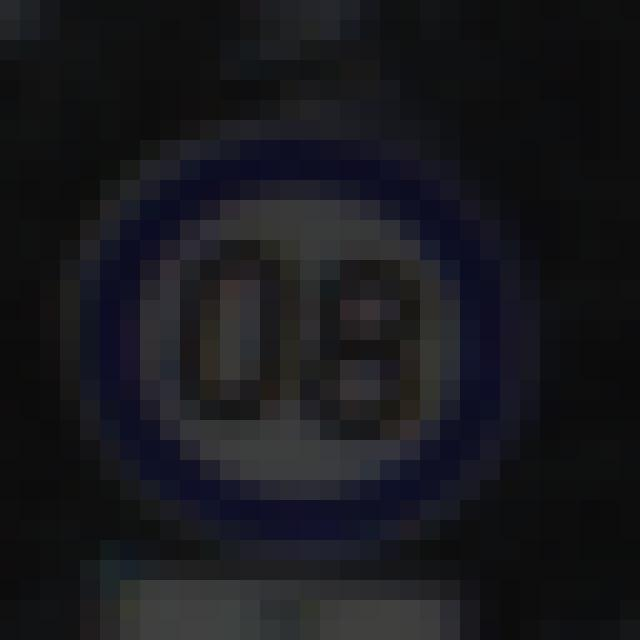SPEED-LIMIT-80: (65, 125, 538, 556)
